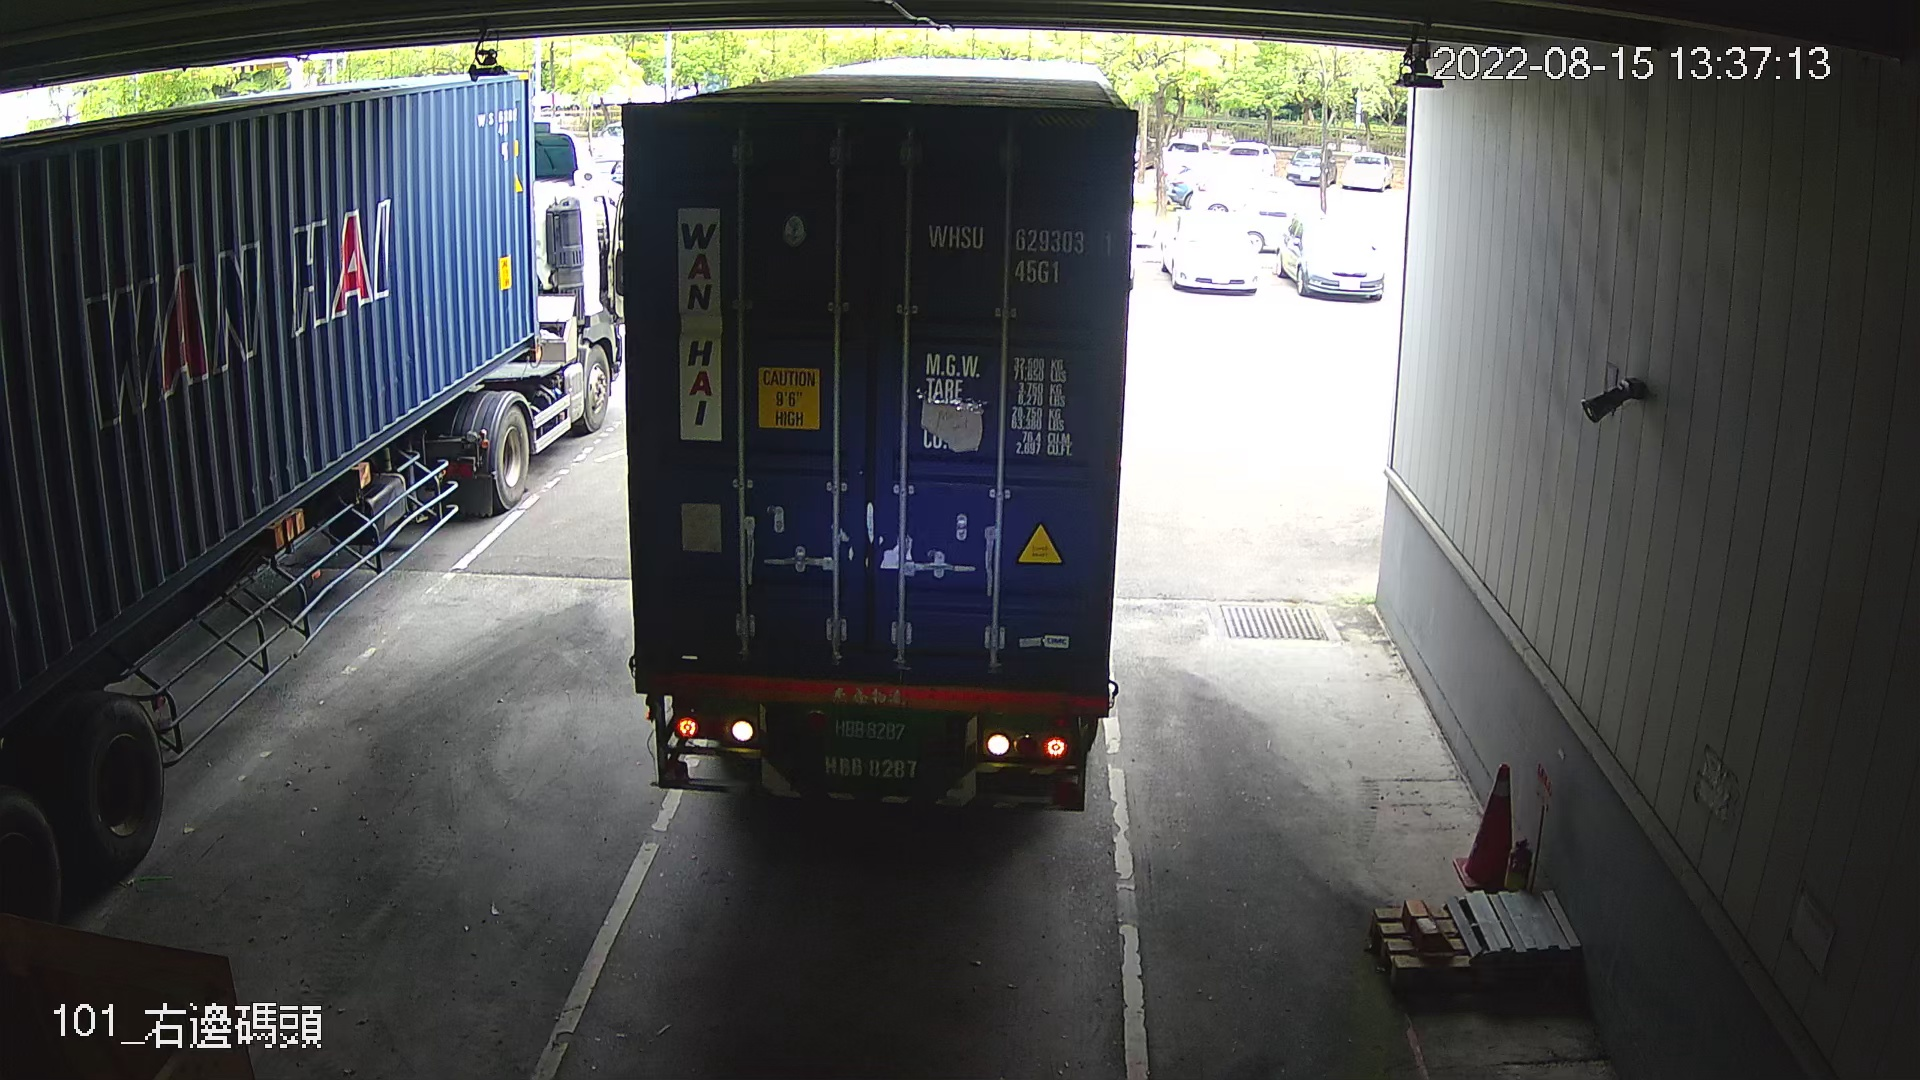container: (919, 211, 1125, 294)
